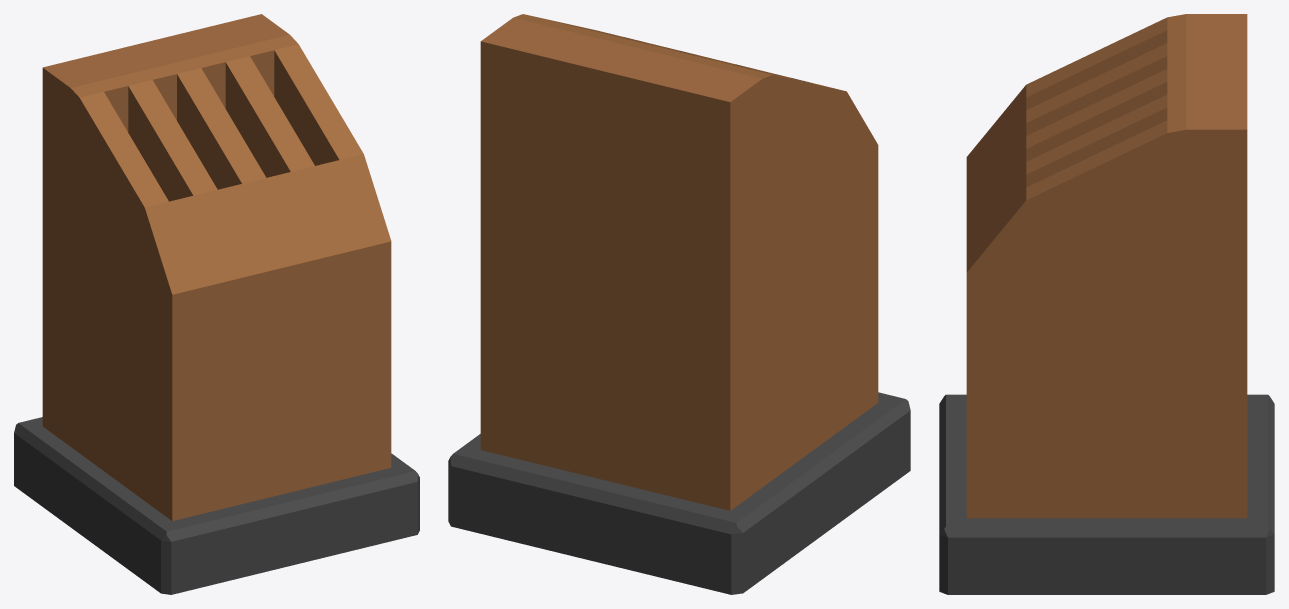
The model's file is knife_holder.glb.
3 views of the same model, side by side, from view 1: azimuth 30°, elevation 25°; view 2: azimuth 150°, elevation 25°; view 3: azimuth 270°, elevation 25° (orthographic). The views are drawn at different scales.
Visible parts, largest first — view 1: Knife_Holder; view 2: Knife_Holder; view 3: Knife_Holder.
Boxes of the visible parts, box(x1,y1,x2,y2) form: Knife_Holder: box(14, 14, 419, 594); Knife_Holder: box(448, 14, 910, 594); Knife_Holder: box(939, 14, 1274, 594).
Bounding box in the file's own units: 0.3941 × 0.6109 × 0.4087.
